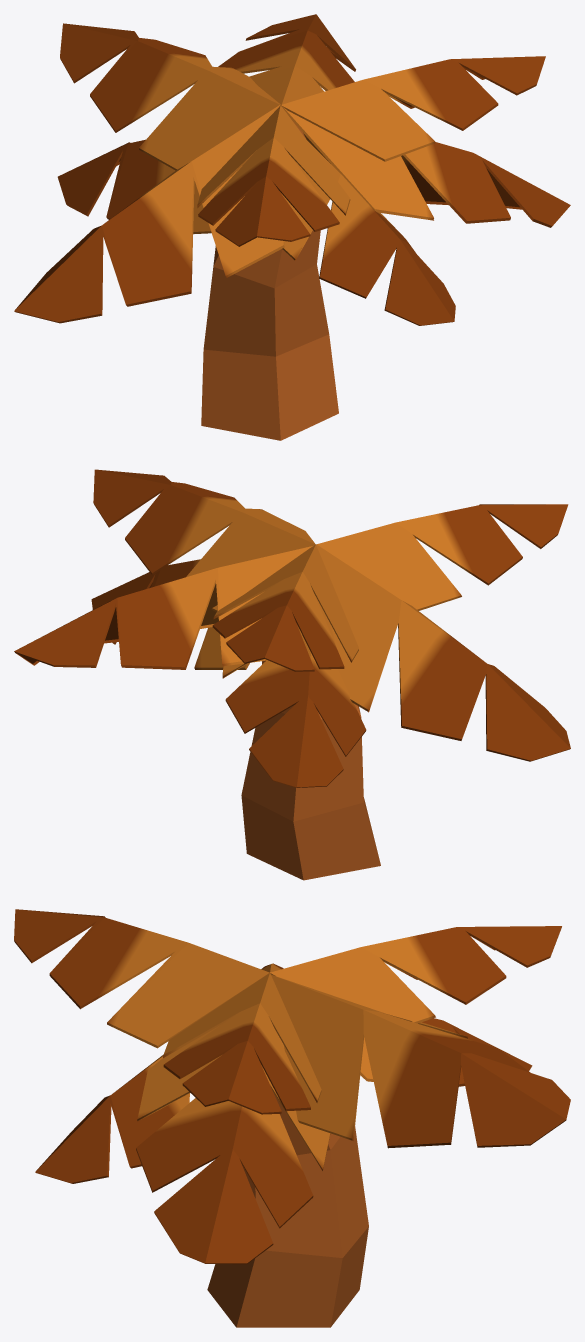
The model's file is Tree_11_Fall.fbx.
3 views of the same model, one above another, from view 1: azimuth 30°, elevation 25°; view 2: azimuth 150°, elevation 25°; view 3: azimuth 270°, elevation 25° (orthographic). The views are drawn at different scales.
Parts seen in each view (by area): view 1: Tree_11_p2_Fall, Tree_11_p1_Fall; view 2: Tree_11_p2_Fall, Tree_11_p1_Fall; view 3: Tree_11_p2_Fall, Tree_11_p1_Fall.
Boxes of the visible parts, x1,y1,x2,y2 form: Tree_11_p2_Fall: [14, 14, 570, 325]; Tree_11_p1_Fall: [201, 122, 338, 440]; Tree_11_p2_Fall: [14, 469, 570, 787]; Tree_11_p1_Fall: [241, 660, 380, 880]; Tree_11_p2_Fall: [14, 909, 570, 1264]; Tree_11_p1_Fall: [207, 1092, 368, 1327].
Size of the model in its own units: 335 by 197 by 285.
